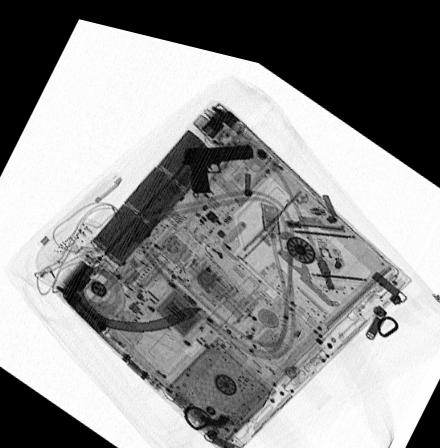Gun: (183, 133, 251, 185)
